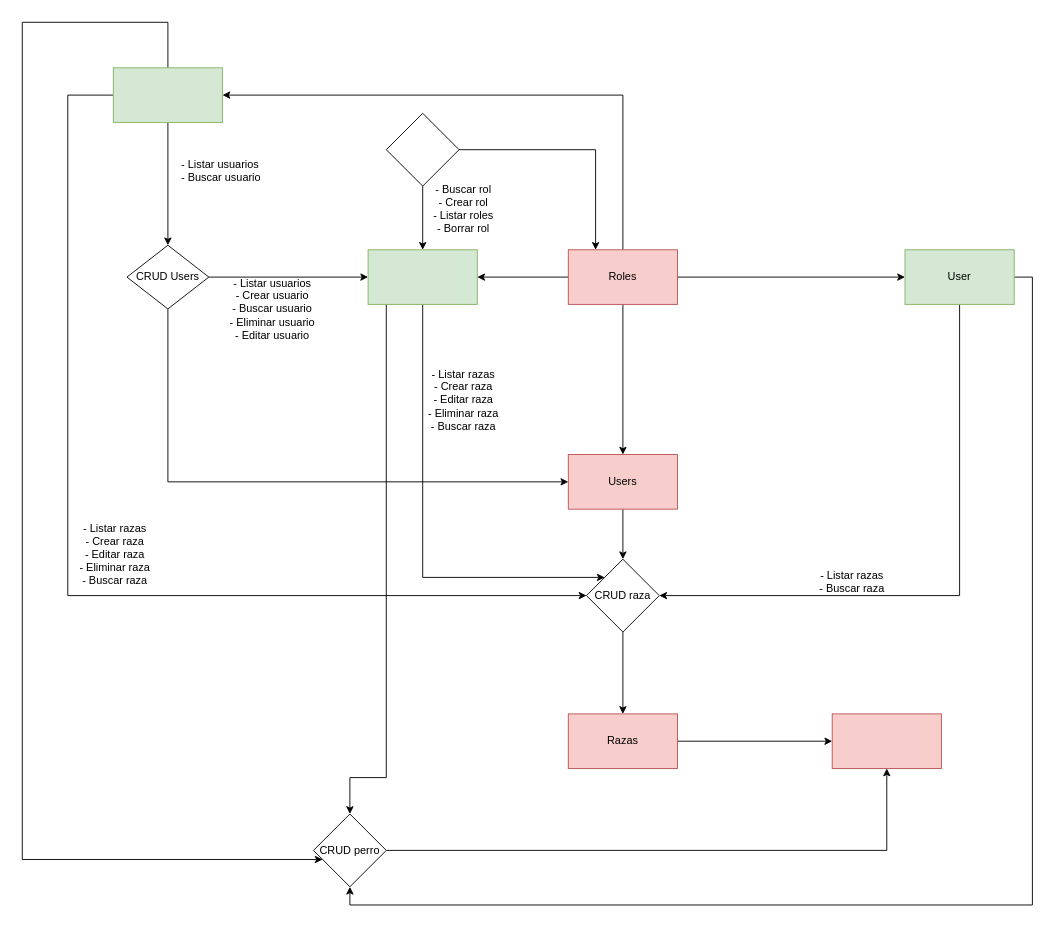
This 1056x928 diagram has some shape labels left out. The shapes that lost their labels are listed below. From the top down, each one's centre as x and y in pixels, then its label:
[167,94]: Moderator
[422,149]: CRUD ROLES
[422,276]: Admin
[886,740]: Perros
